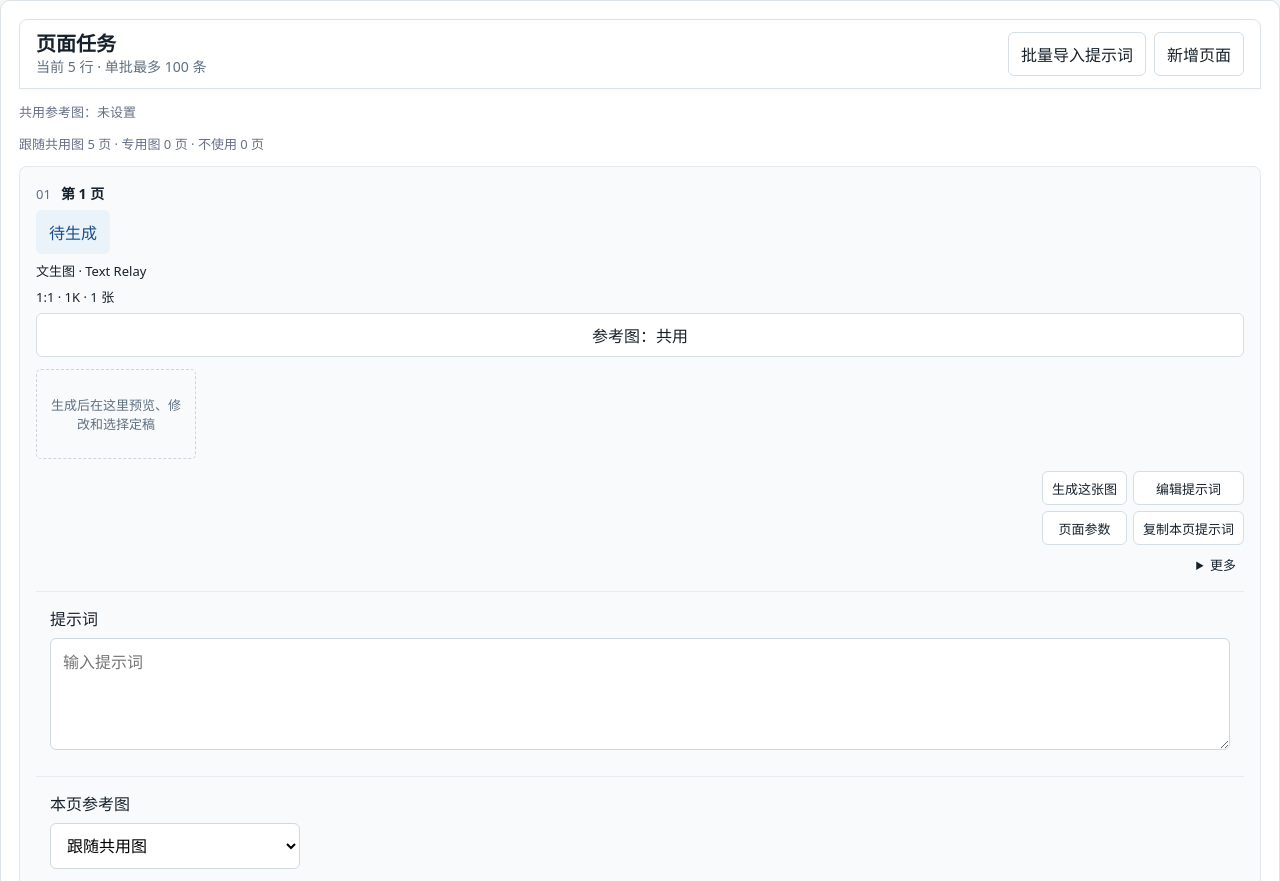
Scenario: TaskTable › does not change existing rows when structured input is invalid
Type "existing prompt" into the text box at x=640, y=694, box 50,638 -> 1230,750
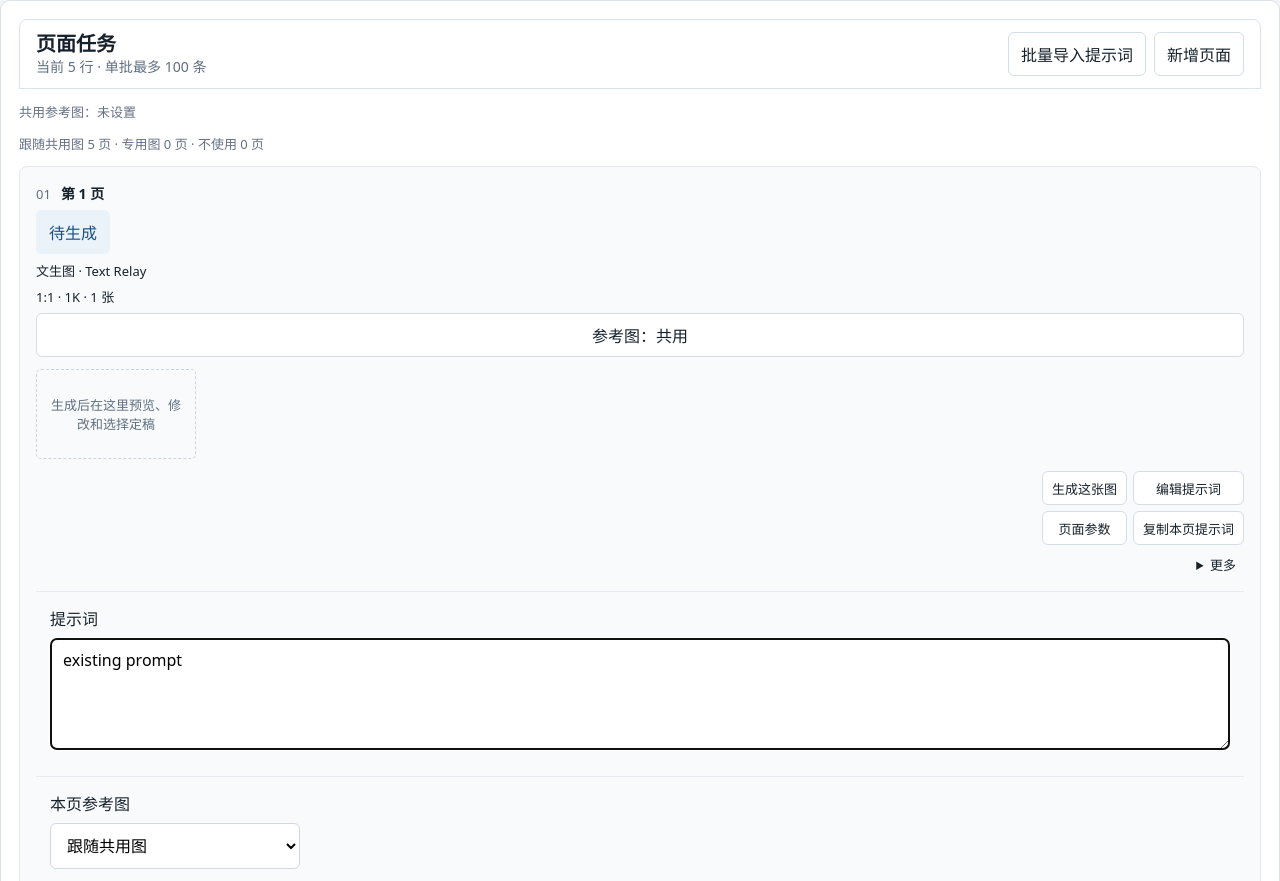
Click the button "批量导入提示词" at x=1077, y=54, box 1008,32 -> 1146,76
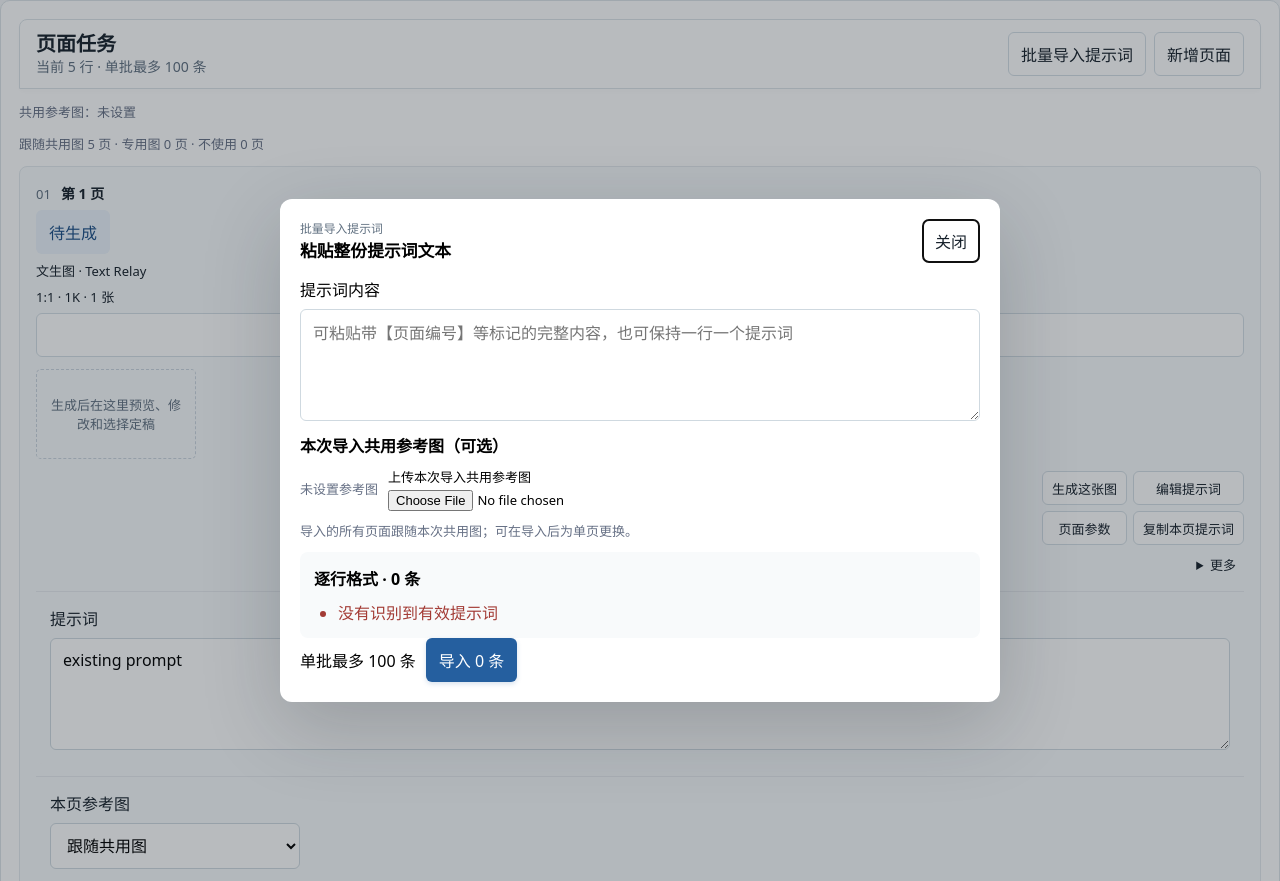
Type "【页面编号】P2 【页面名称】缺字段页面 【生图提示词】只有正文" into the text box with test id "bulk-paste-input" at x=640, y=364, box 300,308 -> 980,420
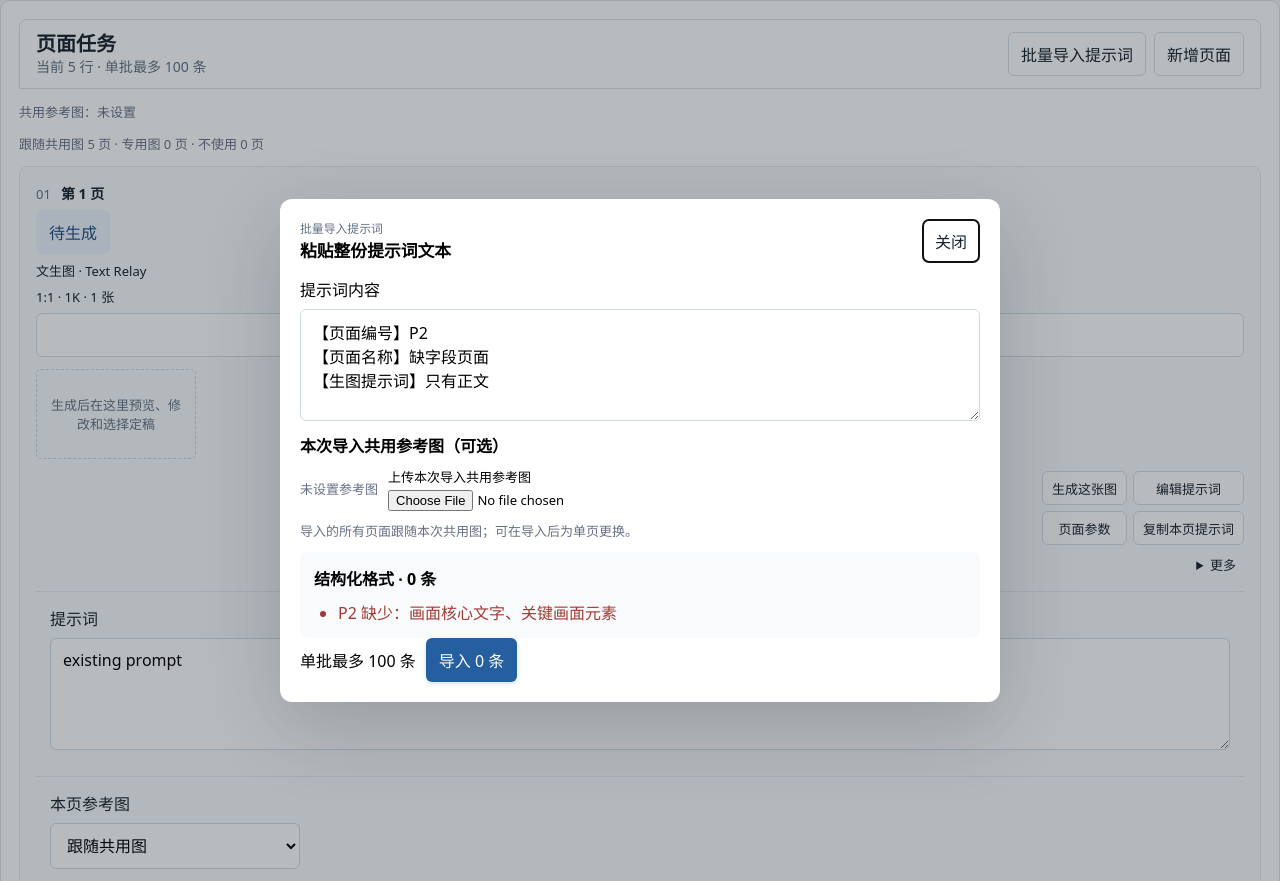
Now the button with test id "bulk-import" is disabled, box 426,638 -> 517,682
Now the list item "P2 缺少：画面核心文字、关键画面元素" is shown, box 338,602 -> 617,624
